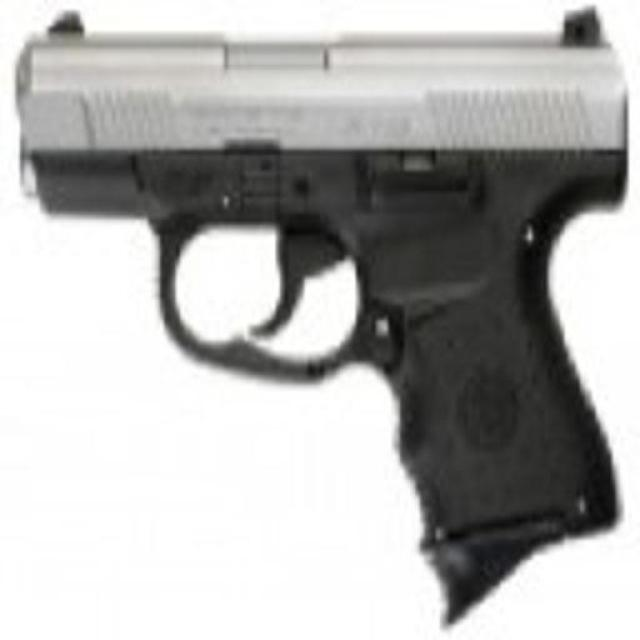pistol: (20, 5, 631, 612)
